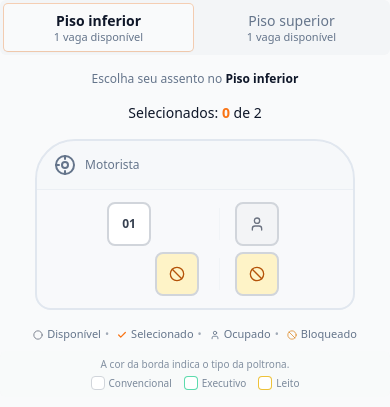
Test: administrative seat map presentation › keeps selections when changing floors and reports actual per-floor availability
Click the button named "Assento 01 - disponível" at (129, 224), box x1=107 y1=202 x2=151 y2=246
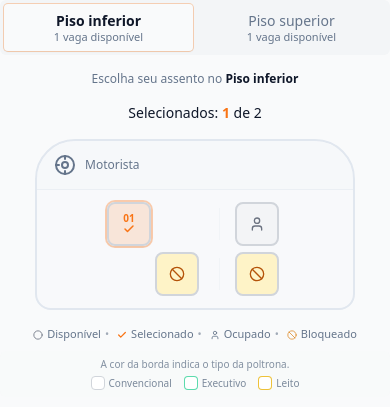
Press the mouse on the tab "Piso superior 1 vaga disponível" at (292, 28), box x1=197 y1=4 x2=386 y2=51
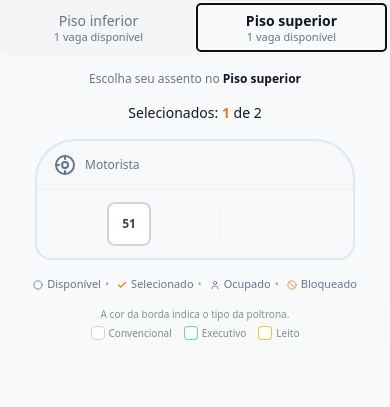
Check: the button named "Assento 51 - disponível" is shown
Click the button named "Assento 51 - disponível" at (129, 224), box x1=107 y1=202 x2=151 y2=246
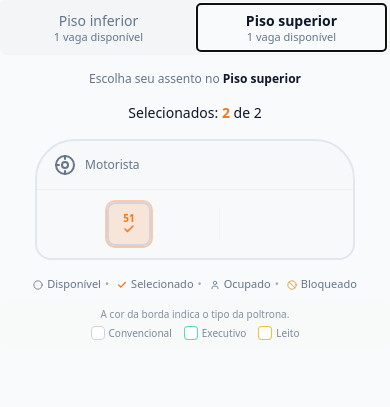
Press the mouse on the tab "Piso inferior 1 vaga disponível" at (98, 28), box x1=4 y1=4 x2=193 y2=51
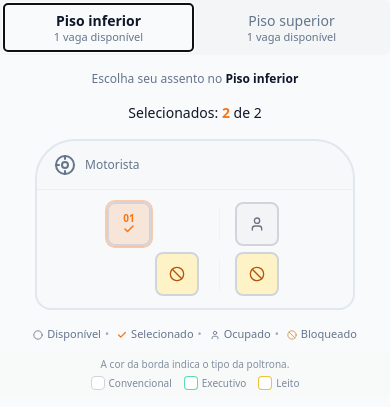
Check: the text "2" is shown, box x1=222 y1=103 x2=230 y2=122
Check: the button named "Assento 01 - selecionado" is shown, box x1=107 y1=202 x2=151 y2=246
